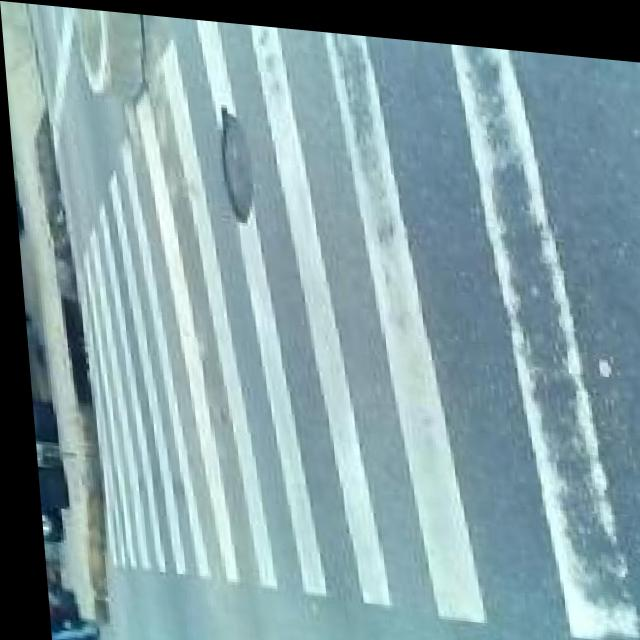zebra: (87, 109, 559, 603)
